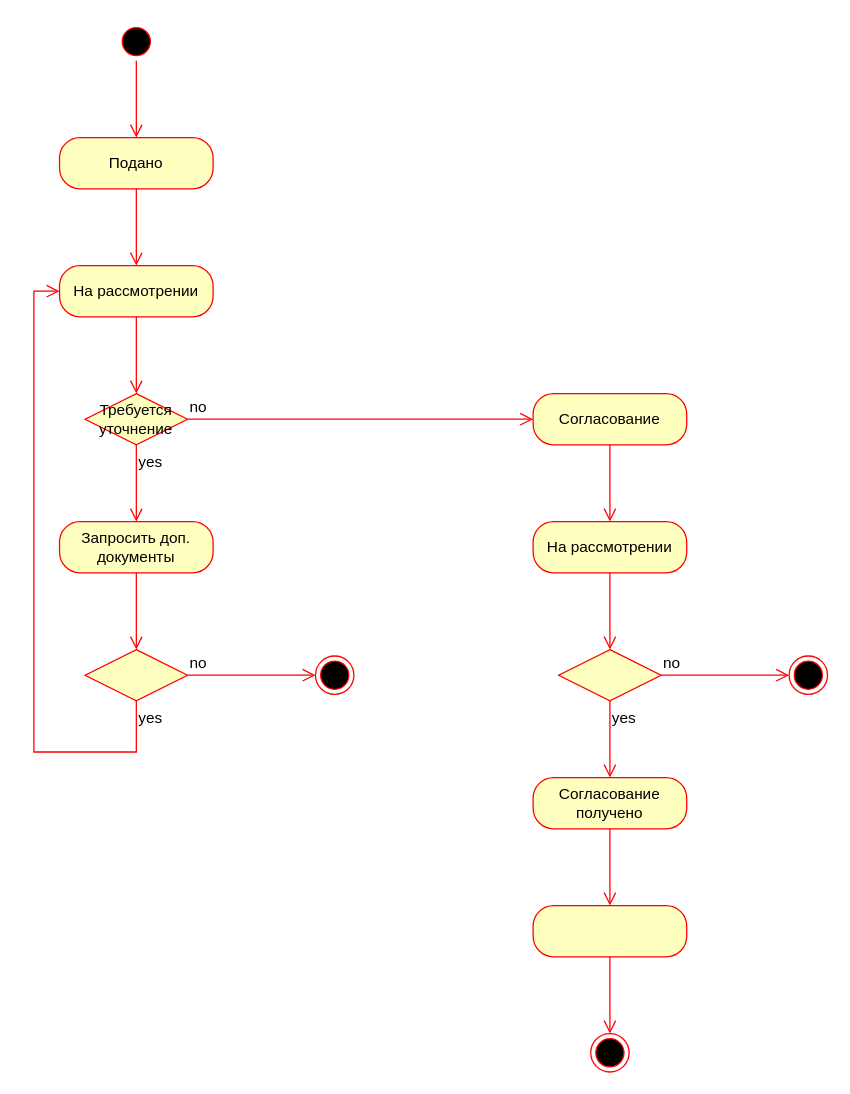
Some shapes in this 850 by 1094 pixel diagram are drawn without their labels. Here are the shapes that lost their labels. From the top down, the centre of each, then its label:
the point at 136,674: Документы предоставлены
the point at 609,674: Утверждено
the point at 609,930: Исполнено
